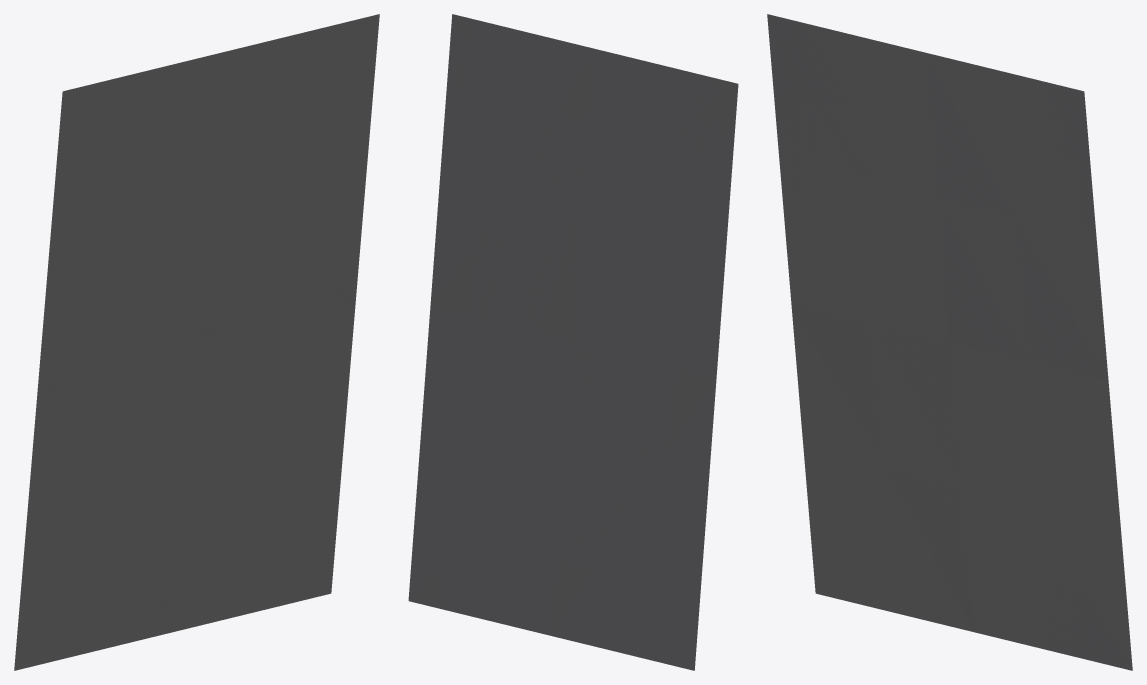
The model's file is secondary_199.glb.
3 views of the same model, side by side, from view 1: azimuth 30°, elevation 25°; view 2: azimuth 150°, elevation 25°; view 3: azimuth 330°, elevation 25° (orthographic). The views are drawn at different scales.
Visible parts, largest first — view 1: Object; view 2: Object; view 3: Object.
Boxes of the visible parts, left/top/right/bottom form: Object: left=14, top=14, right=379, bottom=670; Object: left=408, top=14, right=738, bottom=670; Object: left=767, top=14, right=1132, bottom=670.
Size of the model in its own units: 1.43 by 2.66 by 0.3794.
1 material, 1 textured.
